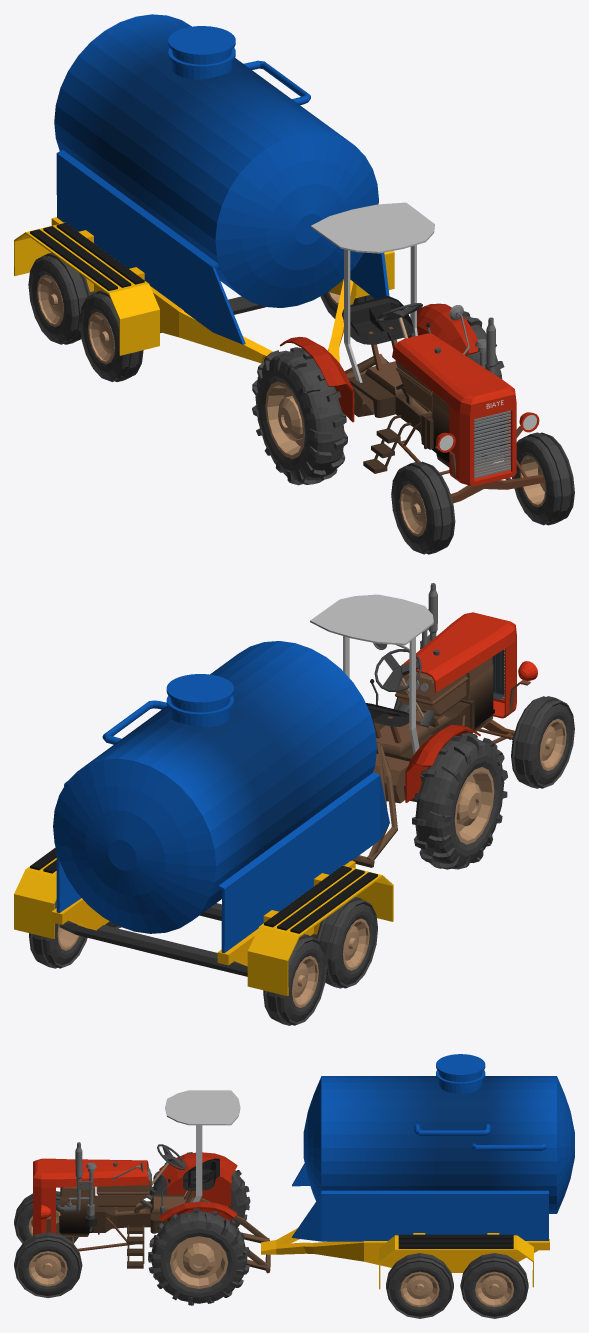
Rendered from sceen_5_bagian_3_pengelolaan_air_traktor_air_1.glb.
The picture shows the model from 3 angles, top to bottom: view 1: azimuth 30°, elevation 25°; view 2: azimuth 150°, elevation 25°; view 3: azimuth 270°, elevation 25°; orthographic projection. The views are drawn at different scales.
Visible parts, largest first — view 1: Trailer_tank, Trailer_tank.001, Trailer_chassis, Capot, Chassis, object 13, Pare soleil, Pneu avant droit, Garde boue, Pneu avant gauche, Trailer pneu droit 2, Trailer pneu droit 1 (+7 smaller); view 2: Trailer_tank, Trailer_tank.001, Trailer_chassis, Chassis, object 13, Capot, Pare soleil, Pneu avant droit, Trailer pneu droit 1, Trailer_chassis.001, Trailer pneu droit 2, Jante arriere droit (+8 smaller); view 3: Trailer_tank, Trailer_tank.001, Chassis, Trailer_chassis, object 14, Capot, Pare soleil, Garde boue, Trailer pneu gauche 2, Pneu avant gauche, Trailer pneu gauche 1, object 7 (+8 smaller).
Part boxes in pixels (box(x1,y1,x2,y2)): Trailer_tank: box(54, 14, 378, 307); Trailer_tank.001: box(56, 150, 389, 344); Trailer_chassis: box(14, 217, 394, 363); Capot: box(392, 305, 539, 486); Chassis: box(342, 296, 544, 503); object 13: box(252, 347, 347, 485); Pare soleil: box(311, 202, 434, 382); Pneu avant droit: box(391, 461, 455, 554); Garde boue: box(280, 303, 478, 422); Pneu avant gauche: box(512, 432, 574, 525); Trailer pneu droit 2: box(28, 253, 90, 344); Trailer pneu droit 1: box(79, 290, 143, 381); Trailer_tank: box(53, 641, 376, 933); Trailer_tank.001: box(56, 772, 389, 953); Trailer_chassis: box(14, 847, 393, 995); Chassis: box(353, 649, 514, 867); object 13: box(412, 733, 507, 869); Capot: box(373, 612, 537, 718); Pare soleil: box(310, 594, 433, 754); Pneu avant droit: box(511, 696, 574, 788); Trailer pneu droit 1: box(316, 896, 377, 988); Trailer_chassis.001: box(59, 903, 316, 976); Trailer pneu droit 2: box(263, 934, 326, 1025); Jante arriere droit: box(454, 767, 494, 844); Trailer_tank: box(303, 1054, 574, 1213); Trailer_tank.001: box(292, 1163, 548, 1241); Chassis: box(56, 1158, 270, 1273); Trailer_chassis: box(261, 1228, 549, 1289); object 14: box(148, 1208, 250, 1305); Capot: box(33, 1158, 148, 1235); Pare soleil: box(165, 1090, 240, 1202); Garde boue: box(159, 1152, 237, 1221); Trailer pneu gauche 2: box(460, 1253, 528, 1318); Pneu avant gauche: box(14, 1232, 82, 1297); Trailer pneu gauche 1: box(386, 1253, 453, 1318); object 7: box(170, 1236, 228, 1288).
Bounding box in the file's own units: 1.74 × 1.75 × 4.22.
Materials: 3 (2 with a texture image).
